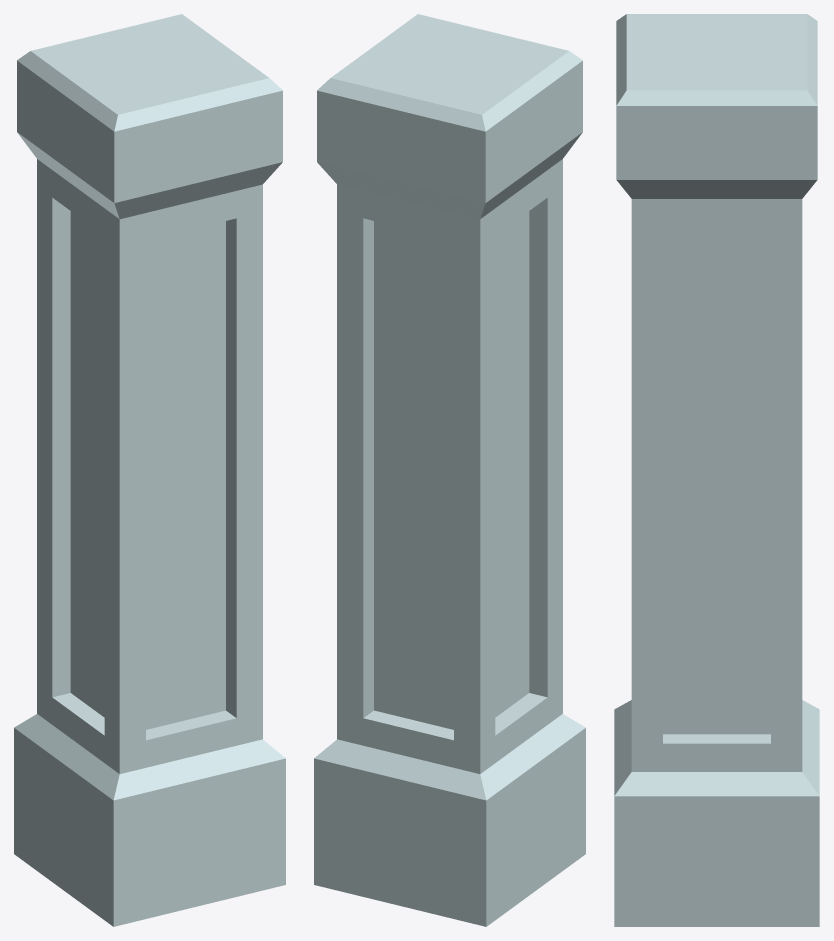
File: stone_column.glb
3 renders of one model, left to right at view 1: azimuth 30°, elevation 25°; view 2: azimuth 150°, elevation 25°; view 3: azimuth 270°, elevation 25°, orthographic. The views are drawn at different scales.
Parts seen in each view (by area): view 1: stone_column; view 2: stone_column; view 3: stone_column.
Part boxes in pixels (<box>): stone_column: <box>14,14,285,926</box>; stone_column: <box>314,14,585,926</box>; stone_column: <box>614,14,819,926</box>.
Size of the model in its own units: 0.2241 by 1 by 0.2241.
